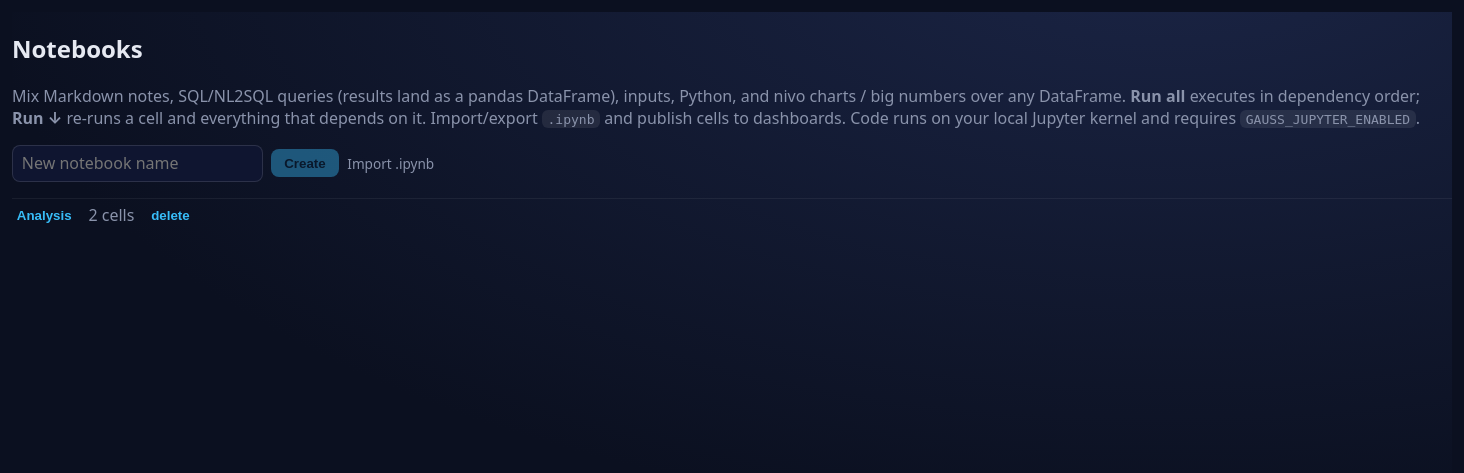
Test: Notebooks › runs a Python cell and renders streamed output
This screenshot has width=1464, height=473.
Click the button "Analysis" at (44, 215), box top-left (12, 204), bottom-right (76, 226)
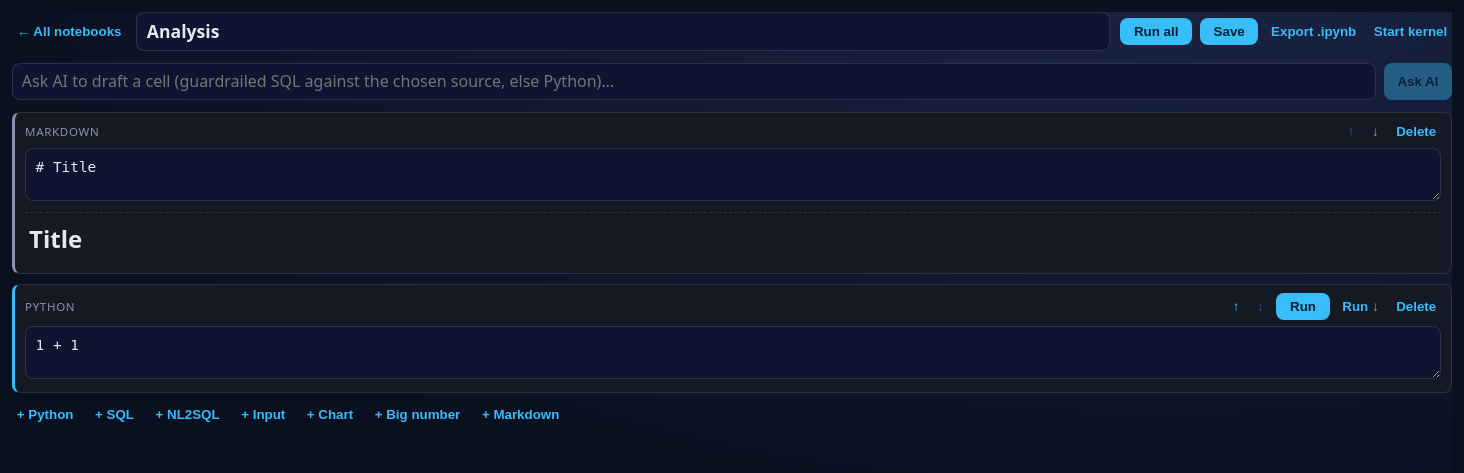
Click the button "Run" at (1303, 306), box top-left (1276, 292), bottom-right (1330, 320)
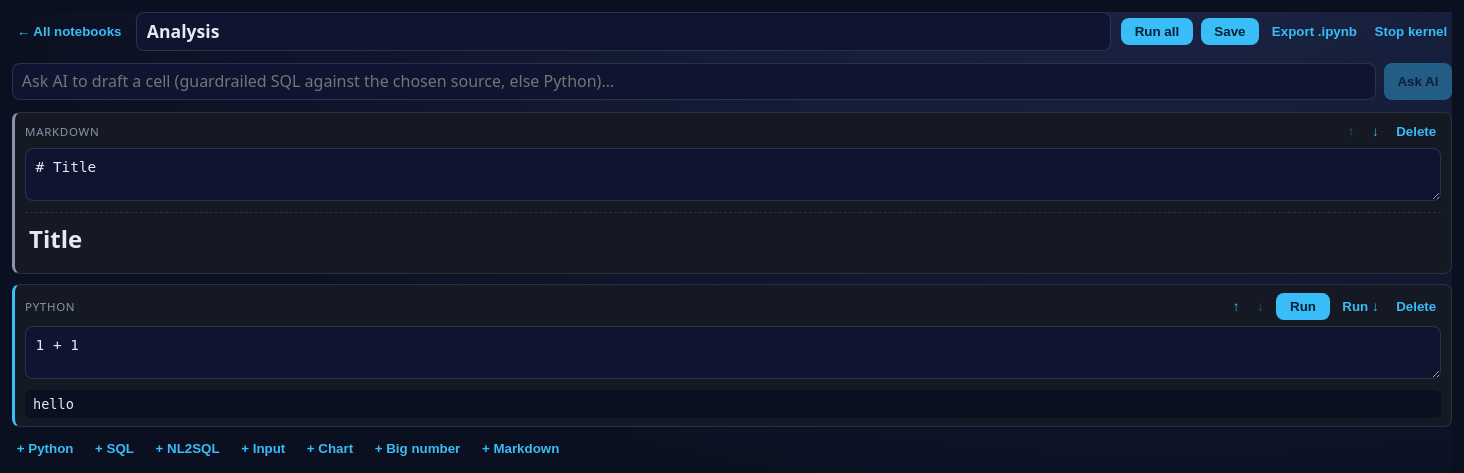
Expected: the text "hello" is shown, top-left (25, 390), bottom-right (1441, 418)
